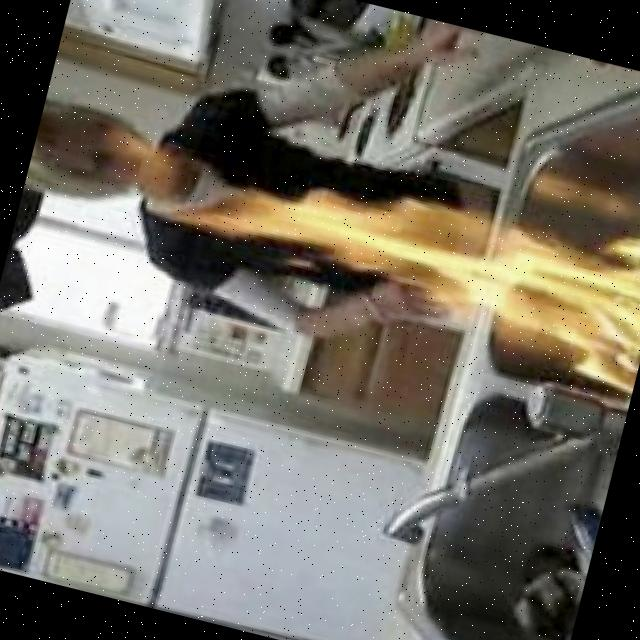fire: (178, 142, 640, 382)
